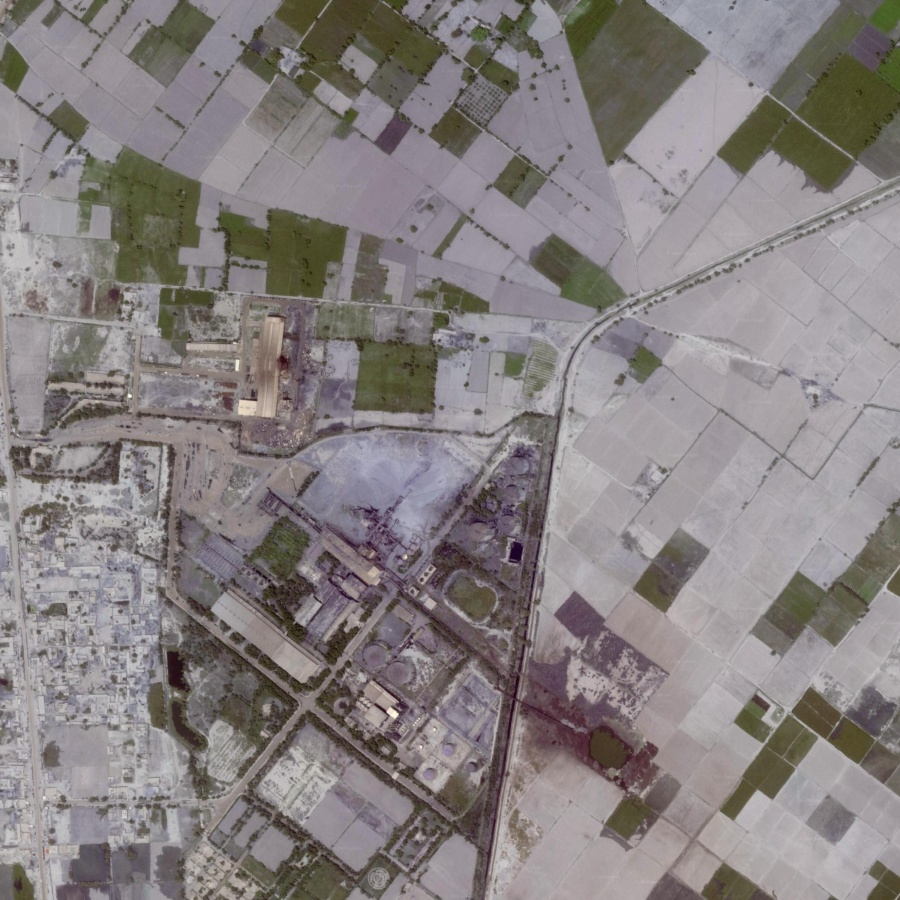PowerPlant: (309, 571, 499, 789)
